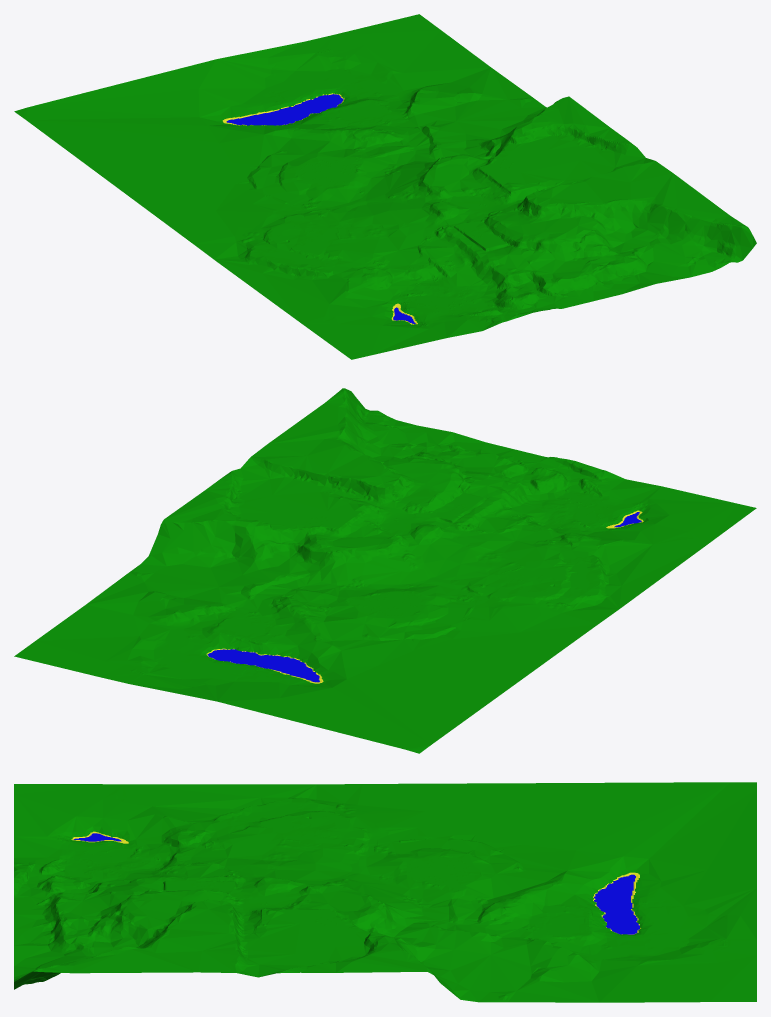
The model's file is manifold.obj.
The picture shows the model from 3 angles, top to bottom: view 1: azimuth 30°, elevation 25°; view 2: azimuth 150°, elevation 25°; view 3: azimuth 270°, elevation 25°; orthographic projection. The views are drawn at different scales.
Visible parts, largest first — view 1: ground, deepwater; view 2: ground, deepwater; view 3: ground, deepwater, water.
Part boxes in pixels (bbox=[...]): ground: bbox=[14, 14, 756, 359]; deepwater: bbox=[226, 94, 415, 323]; ground: bbox=[14, 388, 756, 753]; deepwater: bbox=[207, 512, 641, 682]; ground: bbox=[14, 782, 756, 1002]; deepwater: bbox=[73, 833, 639, 934]; water: bbox=[71, 831, 640, 934].
Bounding box in the file's own units: 810 × 65.94 × 1168.
